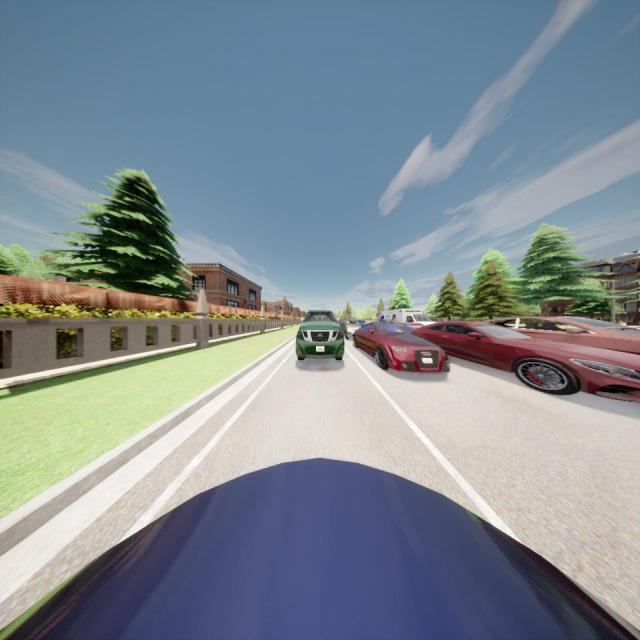Vehicle: (2, 455, 640, 640), (412, 320, 640, 400), (491, 314, 640, 351), (354, 322, 451, 374), (296, 310, 344, 360), (376, 310, 436, 330), (341, 320, 362, 340), (356, 320, 366, 327)
